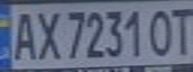1: (121, 6, 148, 57)
2: (84, 7, 106, 60)
3: (103, 7, 127, 58)
7: (63, 7, 87, 61)
A: (6, 7, 39, 62)
O: (145, 5, 175, 57)
T: (166, 3, 193, 56)
X: (33, 7, 63, 61)
